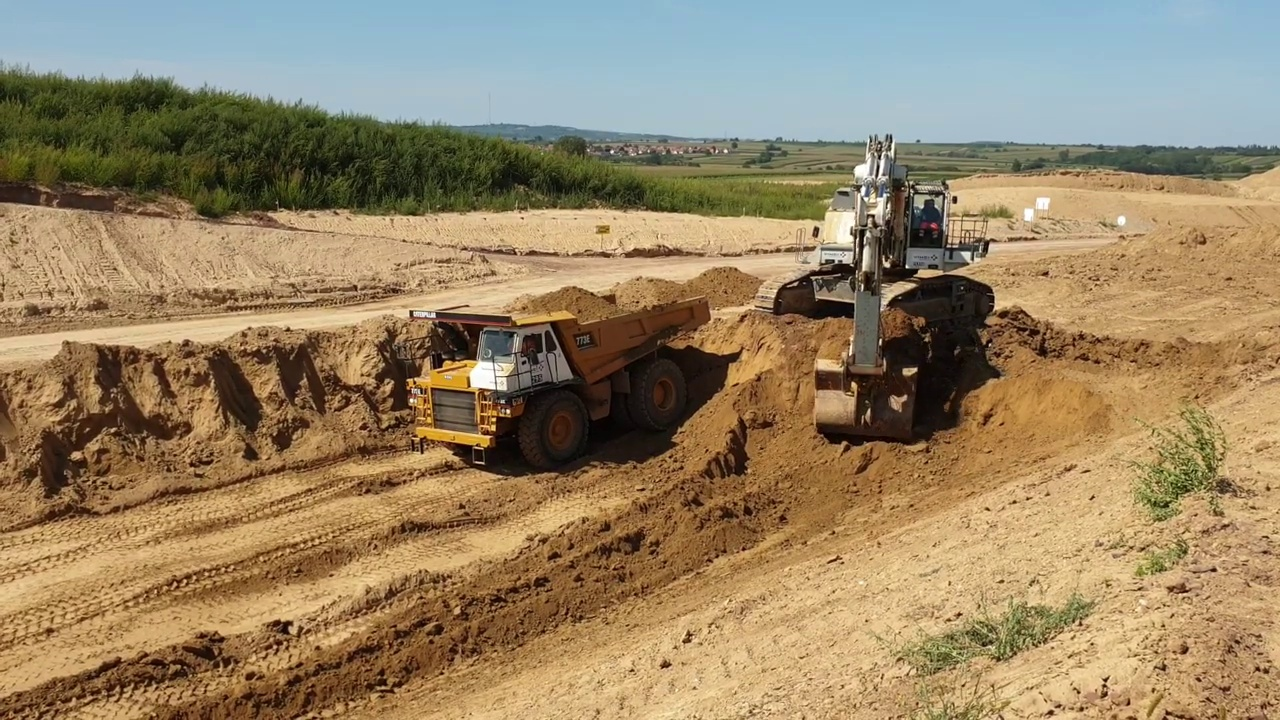excavator: (752, 130, 1005, 451)
truck: (401, 290, 721, 476)
